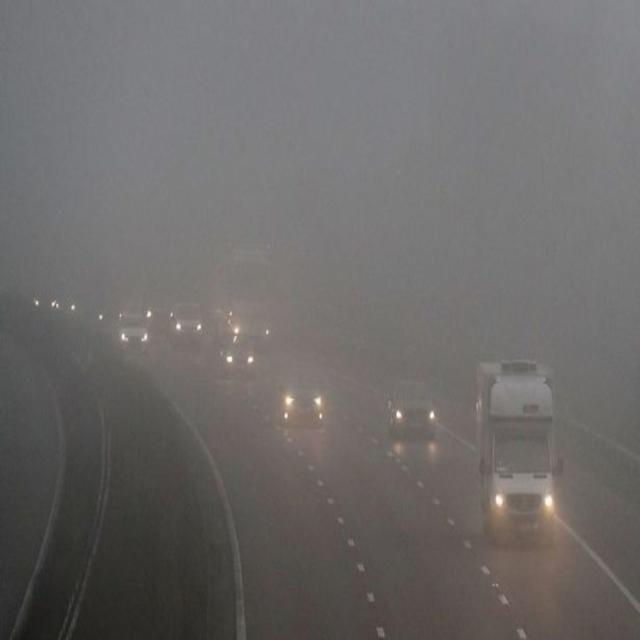bus: (199, 233, 275, 344)
car: (386, 377, 438, 441), (277, 364, 325, 426), (168, 299, 206, 348), (218, 331, 256, 375), (116, 314, 150, 354), (144, 287, 176, 326)
truck: (474, 361, 554, 541)
